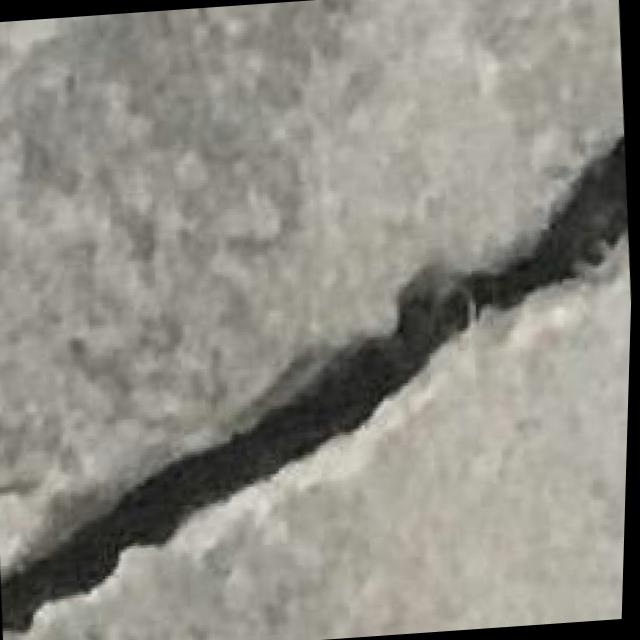Crack: (0, 130, 637, 636)
